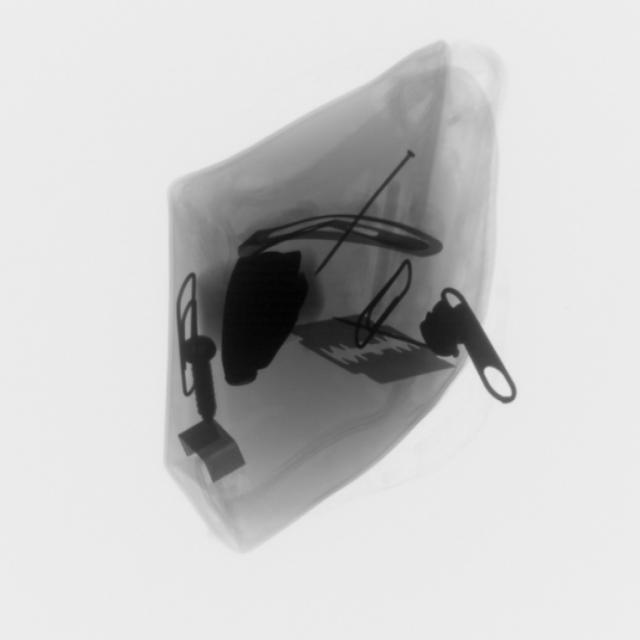BLADE: (280, 306, 464, 394), (302, 205, 449, 266)
